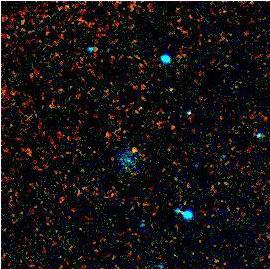star: (121, 134, 151, 164)
